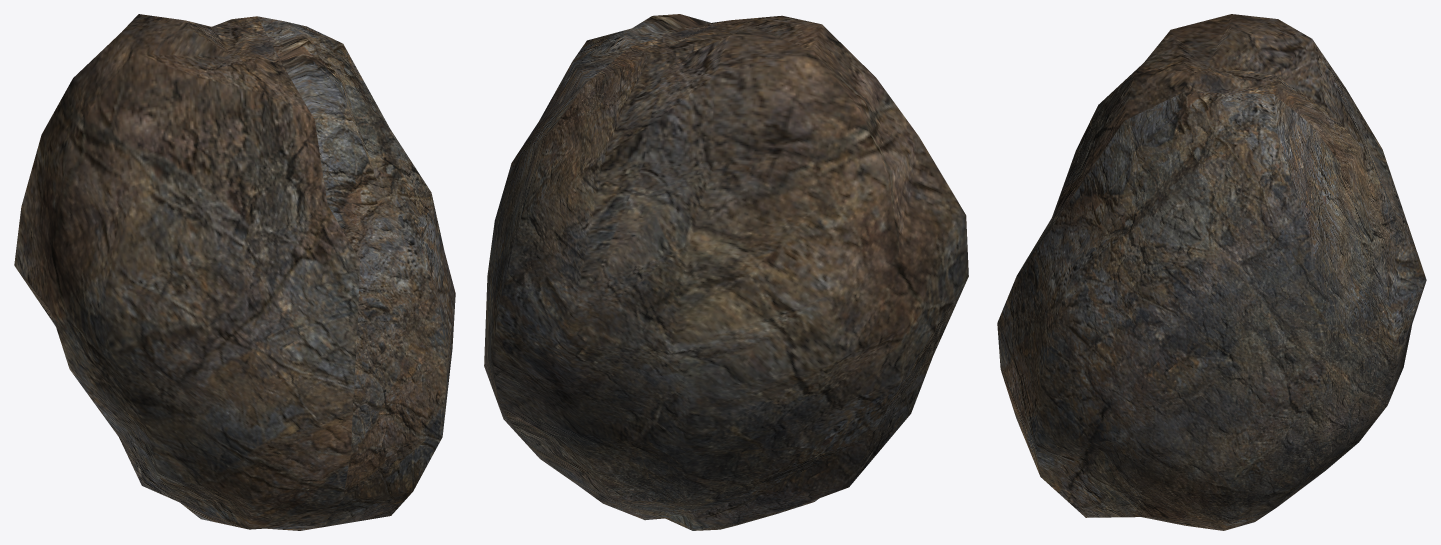
The model's file is rock_Mesh00.fbx.
The picture shows the model from 3 angles, left to right: view 1: azimuth 30°, elevation 25°; view 2: azimuth 150°, elevation 25°; view 3: azimuth 270°, elevation 25°; orthographic projection. The views are drawn at different scales.
Visible parts, largest first — view 1: rockMesh; view 2: rockMesh; view 3: rockMesh.
Part boxes in pixels (x1,y1,x2,y2): rockMesh: (14,14,455,530); rockMesh: (484,14,968,530); rockMesh: (997,14,1426,530).
Bounding box in the file's own units: 78.32 × 95.29 × 83.
